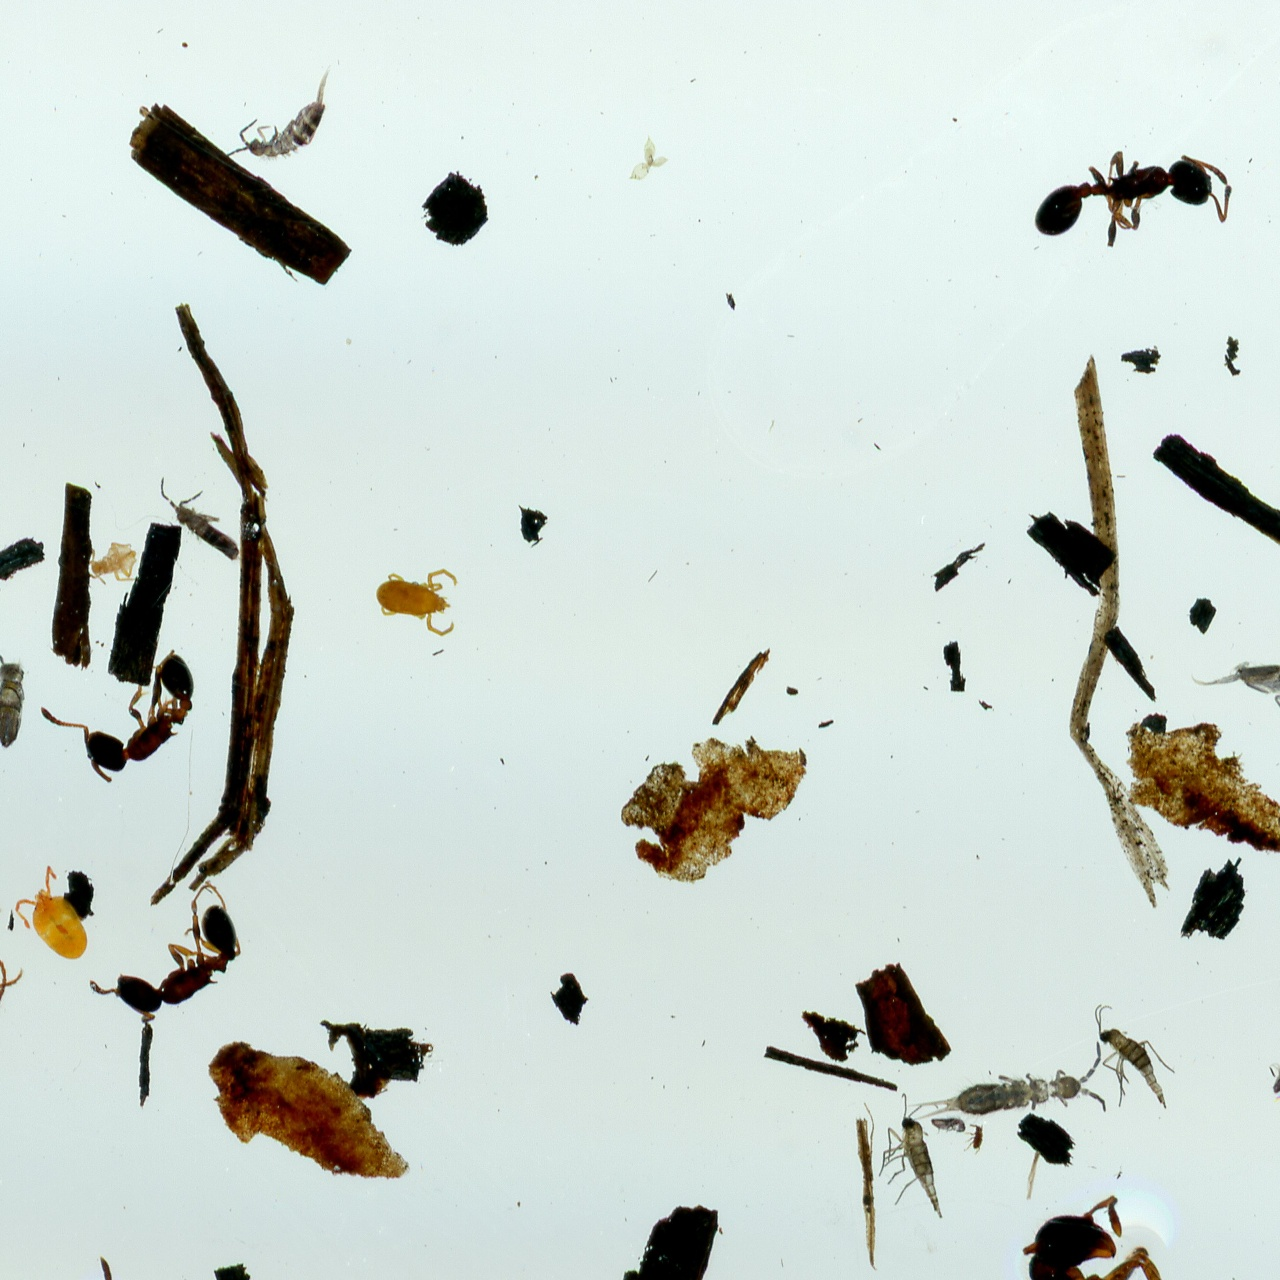arthropod: (29, 604, 225, 799), (82, 872, 270, 1051), (897, 1039, 1111, 1137), (1032, 145, 1233, 248), (857, 1083, 972, 1234), (207, 59, 350, 173), (1003, 1192, 1184, 1280), (144, 458, 260, 580), (1, 858, 113, 976), (1185, 621, 1280, 741), (1092, 1003, 1176, 1111), (372, 566, 459, 641), (0, 865, 28, 1092), (0, 652, 28, 751), (87, 539, 141, 586), (1253, 1027, 1280, 1117), (964, 1124, 983, 1156), (933, 1116, 964, 1133)
